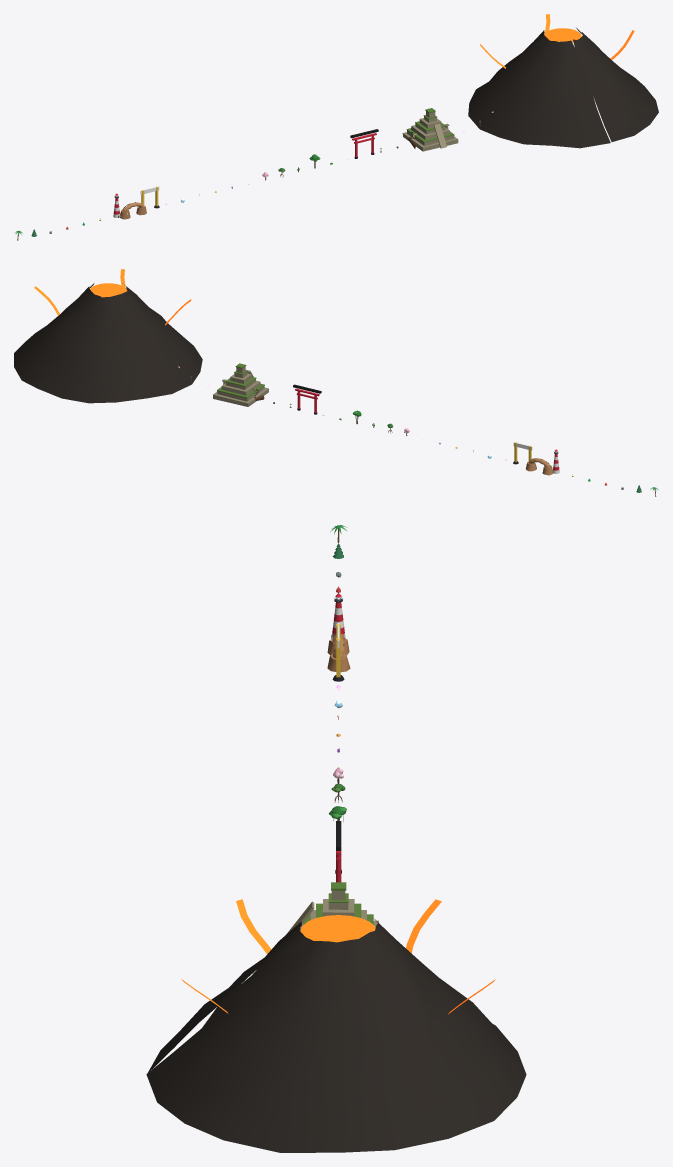
The model's file is environment.glb.
3 renders of one model, top to bottom at view 1: azimuth 30°, elevation 25°; view 2: azimuth 150°, elevation 25°; view 3: azimuth 270°, elevation 25°, orthographic. The views are drawn at different scales.
Parts seen in each view (by area): view 1: Volcano_Cone, Volcano_Crater; view 2: Volcano_Cone, Volcano_Crater, Temple_Tier; view 3: Volcano_Cone, Volcano_Crater.
Part boxes in pixels (box(x1,y1,x2,y2)): Volcano_Cone: box(468, 27, 658, 148); Volcano_Crater: box(544, 28, 581, 42); Volcano_Cone: box(14, 283, 202, 403); Volcano_Crater: box(90, 283, 127, 297); Temple_Tier: box(213, 387, 268, 406); Volcano_Cone: box(146, 918, 526, 1152); Volcano_Crater: box(300, 915, 375, 942).
Size of the model in its own units: 534 by 63.4 by 140.
